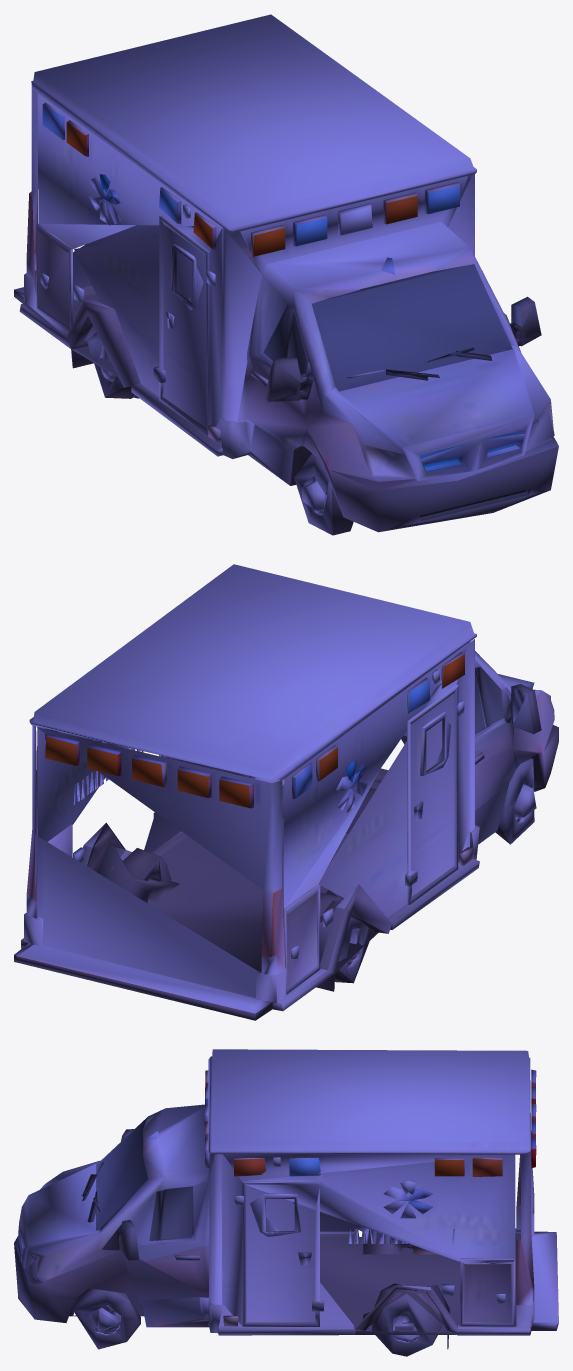
The model's file is model.progressive.glb.
3 renders of one model, top to bottom at view 1: azimuth 30°, elevation 25°; view 2: azimuth 150°, elevation 25°; view 3: azimuth 270°, elevation 25°, orthographic. The views are drawn at different scales.
Parts seen in each view (by area): view 1: material; view 2: material; view 3: material.
Boxes of the visible parts, left/top/right/bottom form: material: left=14, top=14, right=558, bottom=535; material: left=14, top=564, right=558, bottom=1020; material: left=14, top=1049, right=558, bottom=1356.
Bounding box in the file's own units: 0.8698 × 0.8327 × 1.9.
Materials: 1 (1 with a texture image).
